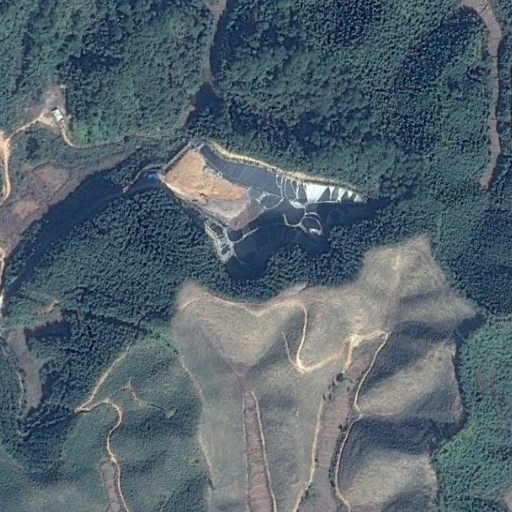lf: (160, 140, 362, 282)
